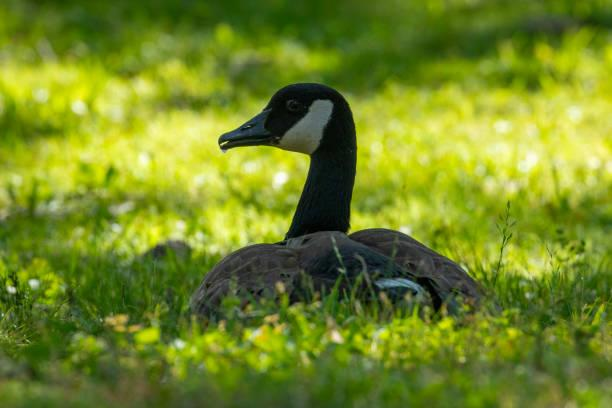Canadian-Goose: (190, 79, 494, 326)
